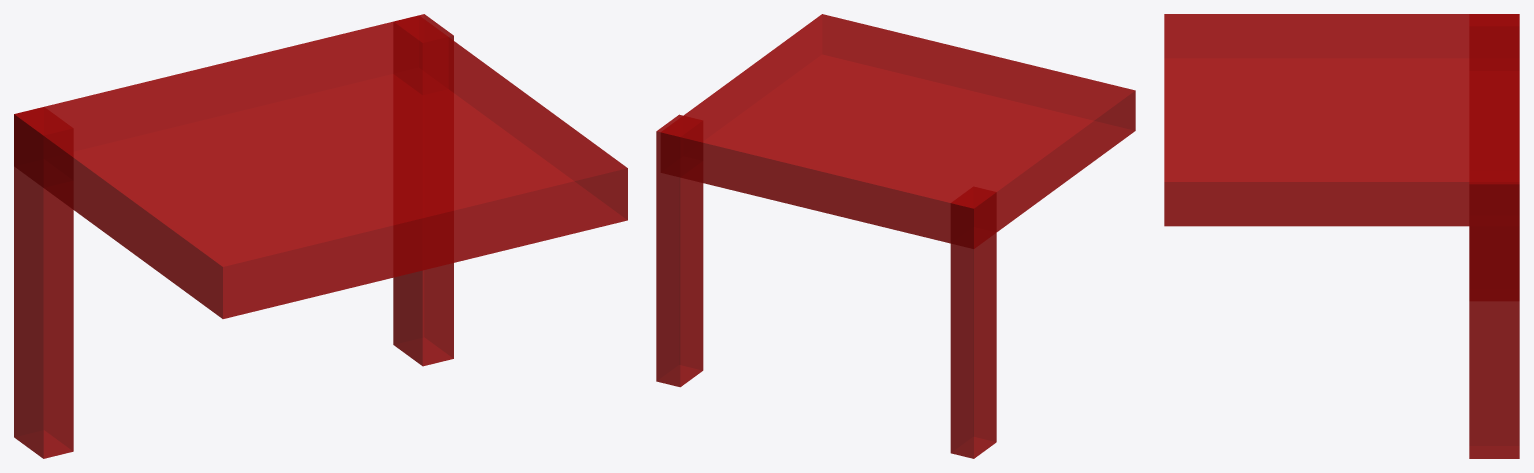
The model's file is SM_Bld_Village_ClothCover_Small_03_Collision.fbx.
3 views of the same model, side by side, from view 1: azimuth 30°, elevation 25°; view 2: azimuth 150°, elevation 25°; view 3: azimuth 270°, elevation 25° (orthographic). The views are drawn at different scales.
Parts seen in each view (by area): view 1: SM_Bld_Village_ClothCover_Small_03_Collision; view 2: SM_Bld_Village_ClothCover_Small_03_Collision; view 3: SM_Bld_Village_ClothCover_Small_03_Collision.
Boxes of the visible parts, x1,y1,x2,y2 form: SM_Bld_Village_ClothCover_Small_03_Collision: [14, 14, 627, 458]; SM_Bld_Village_ClothCover_Small_03_Collision: [656, 14, 1135, 458]; SM_Bld_Village_ClothCover_Small_03_Collision: [1164, 14, 1519, 458].
Bounding box in the file's own units: 201 × 151 × 177.
